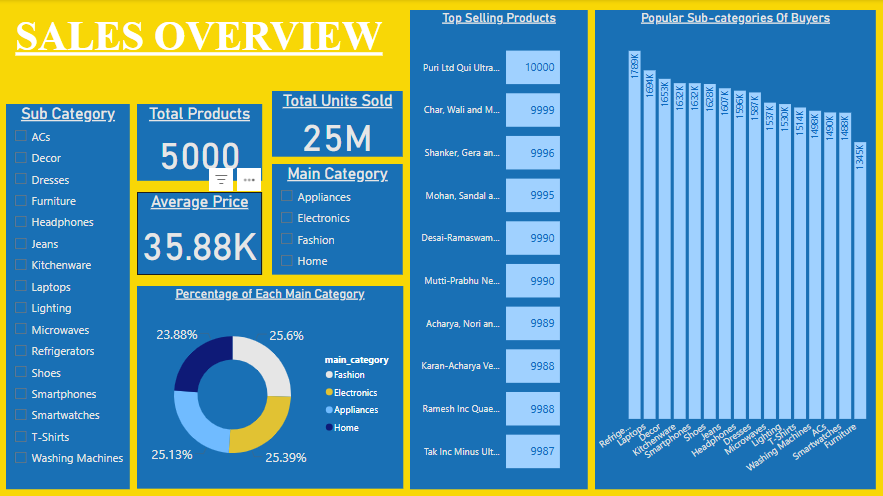

This screenshot's page, from the dashboard's own definition file:
{"tool":"powerbi","page":{"name":"Sales Insights","canvas":[1280,720],"ordinal":1},"visuals":[{"type":"clusteredBarChart","title":"Top Selling Products","fields":{"Category":["top_selling_products.product_name"],"Y":["top_selling_products.total_sold"]},"box":[595.7,15.9,257.3,692.5],"z":0},{"type":"donutChart","title":"Percentage of Each Main Category","fields":{"Category":["category_total_sales.main_category"],"Y":["category_total_sales.total_sales"]},"box":[201,414.9,384.6,293.5],"z":1000},{"type":"clusteredColumnChart","title":"Popular Sub-categories Of Buyers","fields":{"Category":["popular_subcategories.sub_category"],"Y":["popular_subcategories.total_buyers"]},"box":[863.1,15.9,406.3,692.5],"z":2000},{"type":"card","title":"Total Products\t","fields":{"Values":["flipkart_products.product_name"]},"box":[201,151.8,180.7,111.3],"z":3000},{"type":"card","title":"Total Units Sold\t","fields":{"Values":["flipkart_products.total_sold"]},"box":[396.1,133,189.4,95.4],"z":4000},{"type":"card","title":"Average Price","fields":{"Values":["flipkart_products.price"]},"box":[201,279,180.7,120],"z":5000},{"type":"slicer","title":"Main Category","fields":{"Values":["flipkart_products.main_category"]},"box":[396.1,238.6,189.4,160.5],"z":6000},{"type":"slicer","title":"Sub Category","fields":{"Values":["flipkart_products.sub_category"]},"box":[11.6,151.8,179.3,556.6],"z":7000},{"type":"textbox","box":[0,15.9,581.2,117.1],"z":8000}]}

Visuals, with their boxes in screenshot pixels (x1, y1, x2, y2), scaled from the page's 1280x720 canvas onto the 883x496 screenshot:
"Top Selling Products" clusteredBarChart: crop(411, 11, 588, 488)
"Percentage of Each Main Category" donutChart: crop(139, 286, 404, 488)
"Popular Sub-categories Of Buyers" clusteredColumnChart: crop(595, 11, 876, 488)
"Total Products	" card: crop(139, 105, 263, 181)
"Total Units Sold	" card: crop(273, 92, 404, 157)
"Average Price" card: crop(139, 192, 263, 275)
"Main Category" slicer: crop(273, 164, 404, 275)
"Sub Category" slicer: crop(8, 105, 132, 488)
textbox: crop(0, 11, 401, 92)
